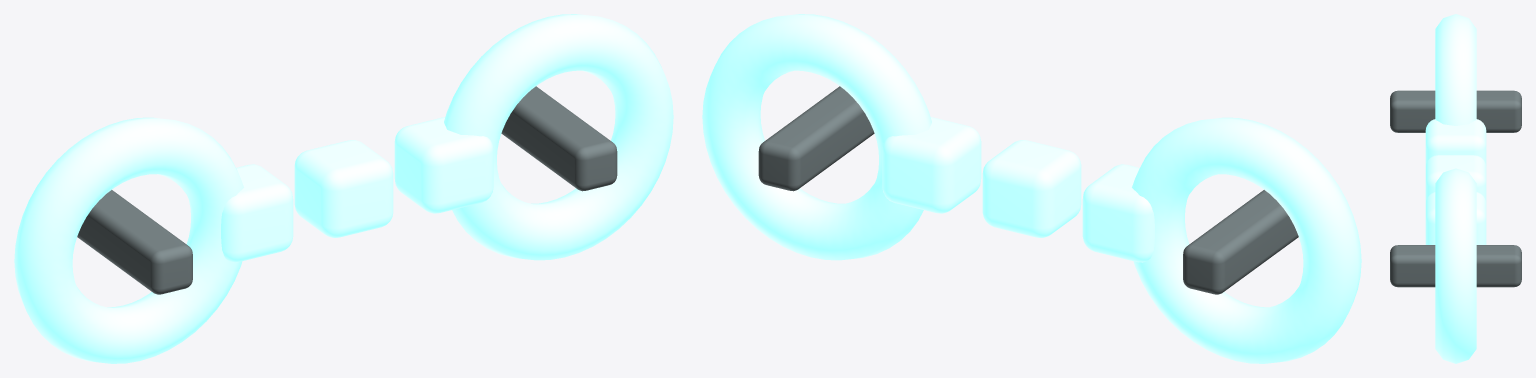
Rendered from power_reach.glb.
The picture shows the model from 3 angles, left to right: view 1: azimuth 30°, elevation 25°; view 2: azimuth 150°, elevation 25°; view 3: azimuth 270°, elevation 25°; orthographic projection. The views are drawn at different scales.
Visible parts, largest first — view 1: spool, spool.001, stretch_segment.001, stretch_segment.002, shaft.001, shaft, stretch_segment; view 2: spool, spool.001, stretch_segment.001, stretch_segment.002, shaft.001, shaft, stretch_segment; view 3: spool.001, spool, shaft.001, shaft, stretch_segment, stretch_segment.001, stretch_segment.002.
Part boxes in pixels (x1=…): spool: x1=14, y1=117, x2=243, y2=363; spool.001: x1=444, y1=14, x2=673, y2=260; stretch_segment.001: x1=294, y1=140, x2=393, y2=237; stretch_segment.002: x1=394, y1=117, x2=493, y2=213; shaft.001: x1=501, y1=86, x2=617, y2=191; shaft: x1=77, y1=190, x2=192, y2=294; stretch_segment: x1=221, y1=164, x2=293, y2=262; spool: x1=1132, y1=117, x2=1361, y2=363; spool.001: x1=702, y1=14, x2=931, y2=260; stretch_segment.001: x1=982, y1=140, x2=1081, y2=237; stretch_segment.002: x1=882, y1=117, x2=981, y2=213; shaft.001: x1=758, y1=86, x2=874, y2=191; shaft: x1=1183, y1=190, x2=1298, y2=294; stretch_segment: x1=1082, y1=164, x2=1154, y2=262; spool.001: x1=1435, y1=168, x2=1476, y2=363; spool: x1=1435, y1=14, x2=1476, y2=125; shaft.001: x1=1390, y1=245, x2=1521, y2=287; shaft: x1=1390, y1=90, x2=1521, y2=132; stretch_segment: x1=1425, y1=119, x2=1486, y2=165; stretch_segment.001: x1=1425, y1=155, x2=1486, y2=202; stretch_segment.002: x1=1425, y1=192, x2=1486, y2=244.
Size of the model in its own units: 1.11 by 0.386 by 0.26.
